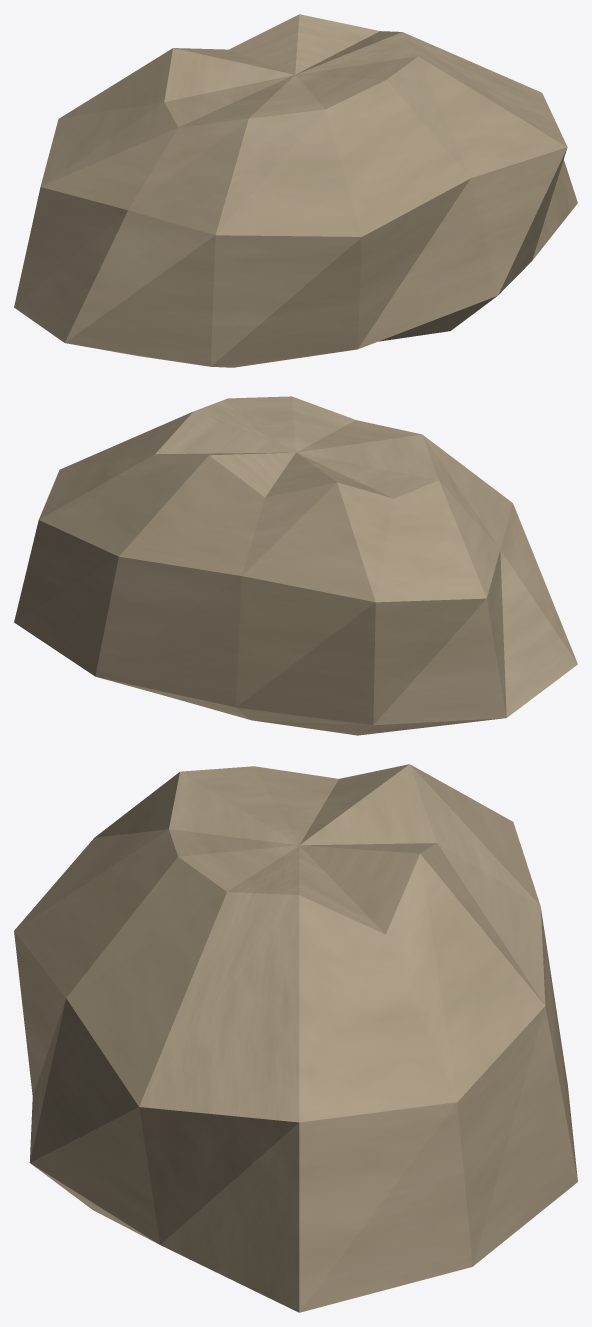
The model's file is SM_CN_Caliche_B.glb.
3 views of the same model, one above another, from view 1: azimuth 30°, elevation 25°; view 2: azimuth 150°, elevation 25°; view 3: azimuth 270°, elevation 25° (orthographic). The views are drawn at different scales.
Parts seen in each view (by area): view 1: SM_CN_Caliche_B; view 2: SM_CN_Caliche_B; view 3: SM_CN_Caliche_B.
Boxes of the visible parts, x1,y1,x2,y2 form: SM_CN_Caliche_B: (14,14,577,367); SM_CN_Caliche_B: (14,396,577,735); SM_CN_Caliche_B: (14,764,577,1312).
Bounding box in the file's own units: 0.88 × 0.37 × 0.5653.
Materials: 1 (1 with a texture image).
